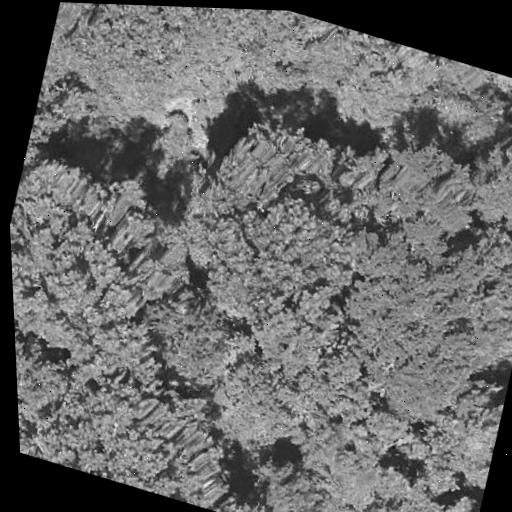tree-top: (7, 158, 208, 378), (41, 2, 263, 146), (62, 367, 243, 512), (184, 175, 350, 322), (326, 241, 465, 394), (195, 90, 347, 229), (278, 370, 411, 502), (288, 16, 431, 137), (363, 124, 491, 252), (421, 213, 512, 366), (199, 349, 312, 464), (142, 284, 253, 396), (236, 283, 353, 389), (232, 9, 331, 104), (439, 373, 511, 480), (456, 113, 512, 238), (334, 461, 468, 512), (245, 447, 347, 512), (14, 323, 73, 428), (209, 474, 316, 512), (49, 2, 103, 51), (205, 486, 288, 512), (445, 502, 481, 512)
